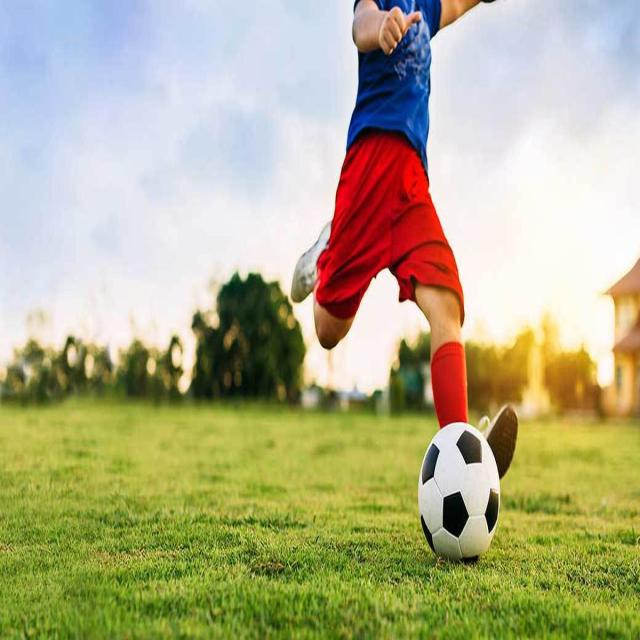soccer ball: (419, 422, 500, 563)
